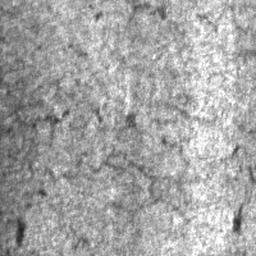Crazing: (0, 100, 256, 227), (196, 3, 253, 35), (112, 3, 167, 25), (224, 199, 245, 236), (16, 216, 26, 249), (93, 11, 103, 22), (173, 21, 184, 31), (25, 202, 32, 209)
